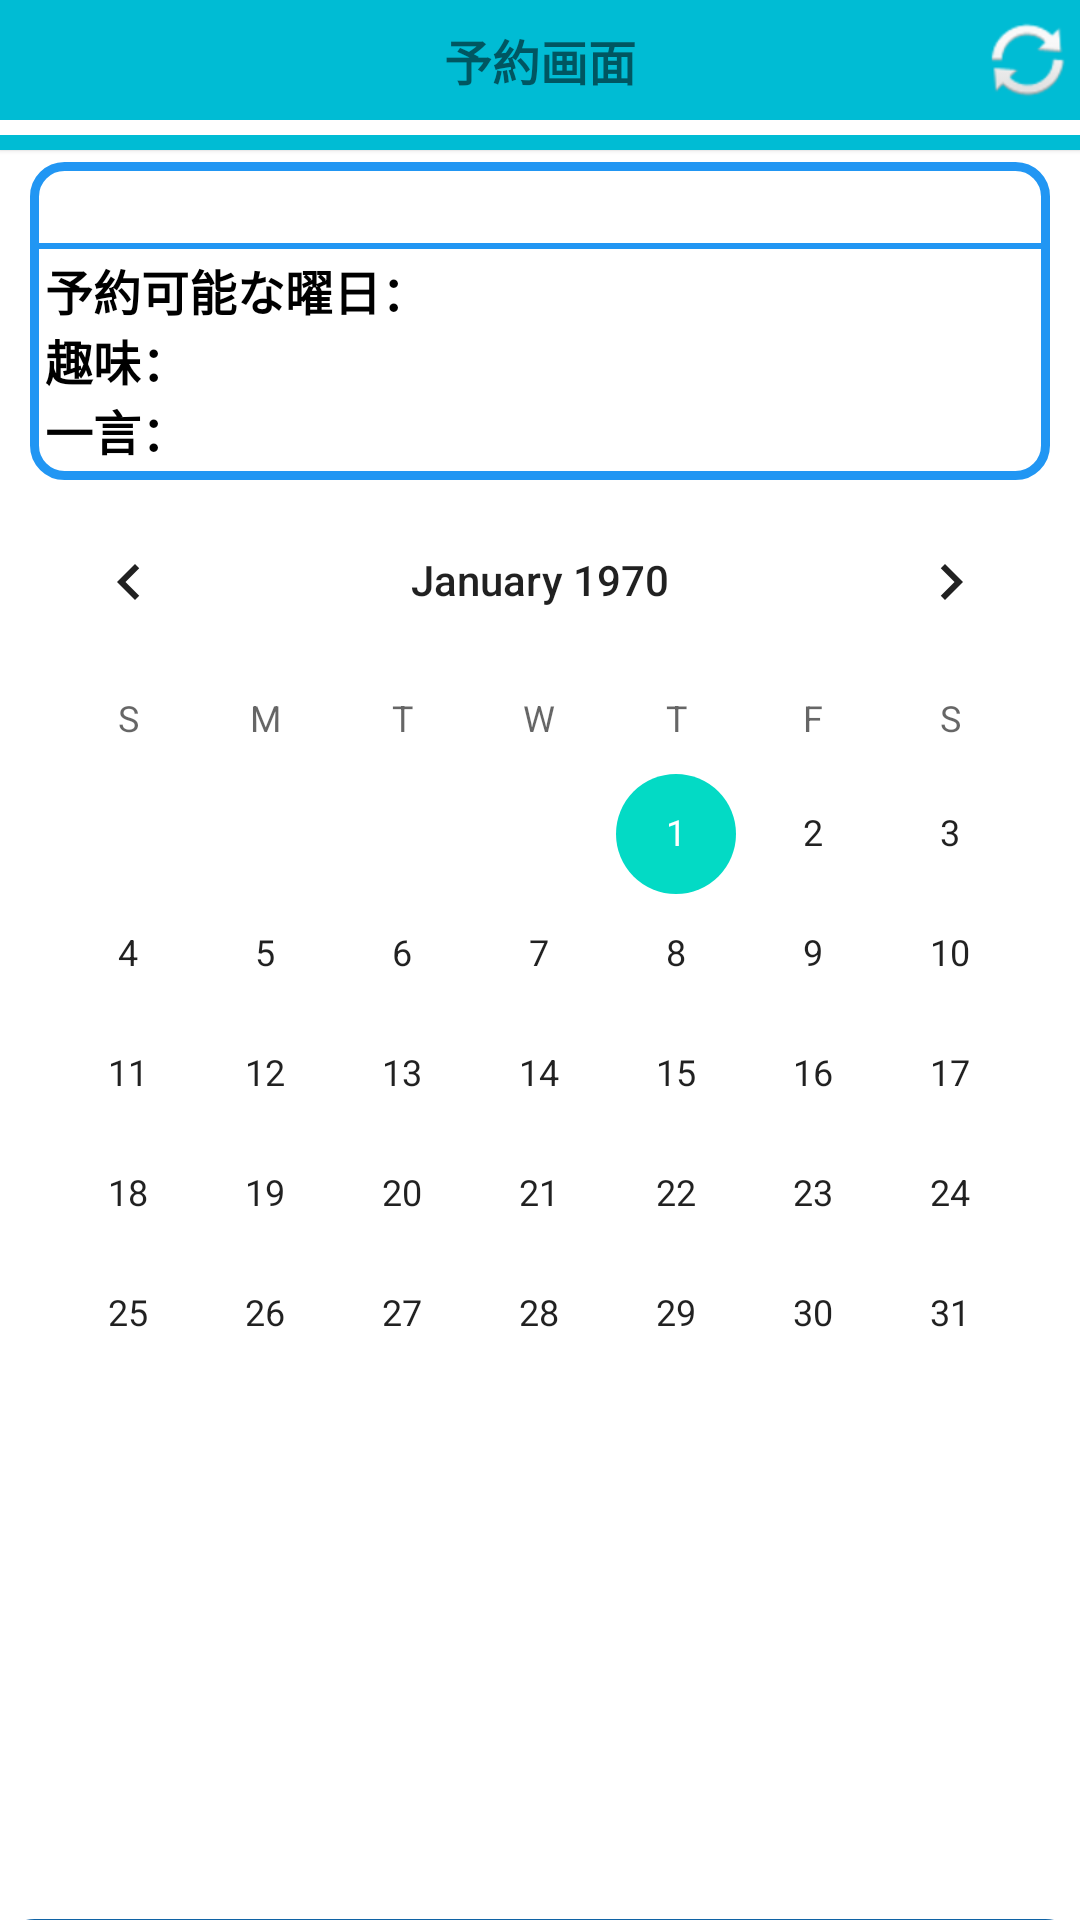

Named icons in this screenshot (1080x1920) and their bounding boxes, (left=x1, top=y1, right=x2, bottom=y2):
popup sync: (left=991, top=24, right=1065, bottom=96)
